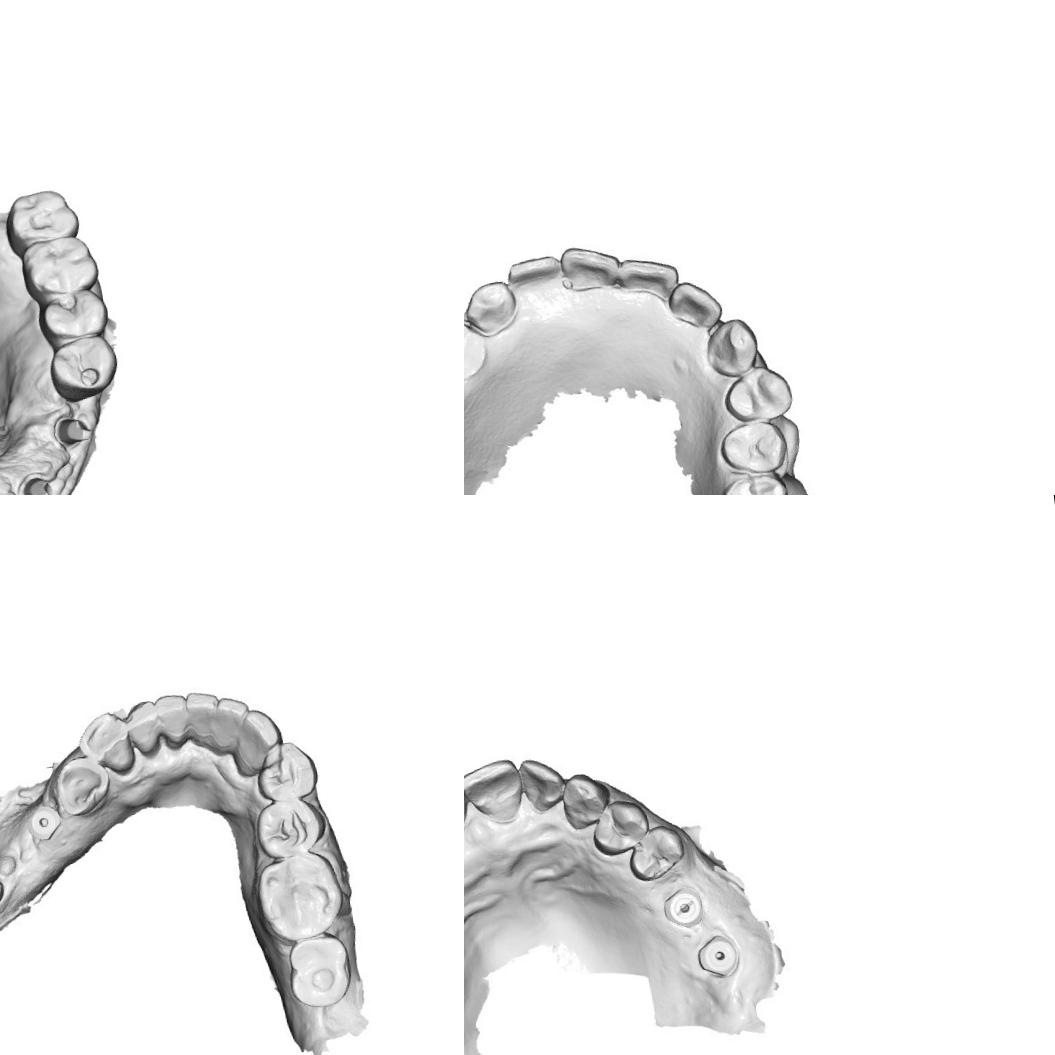abutment: (51, 410, 96, 452), (15, 469, 58, 495)
canine: (82, 708, 138, 781), (700, 316, 761, 380), (557, 766, 614, 832), (464, 278, 520, 330), (230, 714, 277, 774)
implant: (694, 931, 744, 980), (26, 804, 60, 843)
implant_minus: (664, 888, 705, 931)
incisor: (464, 756, 526, 828), (557, 240, 626, 299), (616, 252, 678, 308), (671, 276, 726, 336), (516, 754, 568, 816), (502, 255, 563, 298), (209, 693, 248, 760), (182, 686, 220, 752), (124, 696, 162, 752), (154, 688, 188, 745)
molar: (256, 852, 343, 942), (283, 927, 357, 1014), (1, 185, 84, 260), (17, 234, 102, 302), (719, 473, 788, 495)
premolar: (44, 333, 122, 406), (250, 792, 328, 861), (33, 285, 111, 346), (250, 740, 319, 807), (586, 794, 656, 858), (722, 365, 794, 424), (718, 416, 786, 476), (626, 822, 688, 884), (56, 755, 110, 816), (464, 316, 489, 382)
